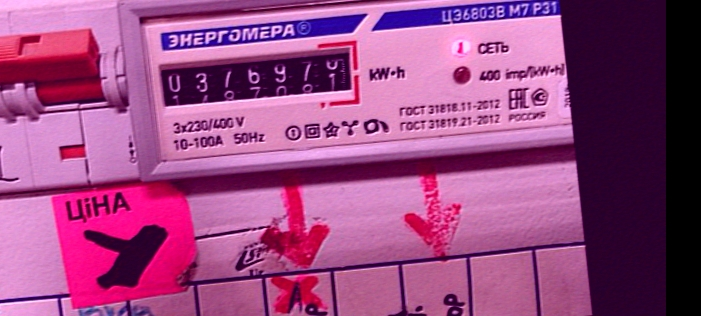0: (166, 70, 183, 93)
1: (325, 70, 339, 91)
3: (194, 70, 211, 93)
6: (245, 60, 262, 85)
7: (218, 64, 235, 88), (299, 58, 315, 82)
9: (271, 59, 288, 84)
screen: (149, 34, 366, 128)
